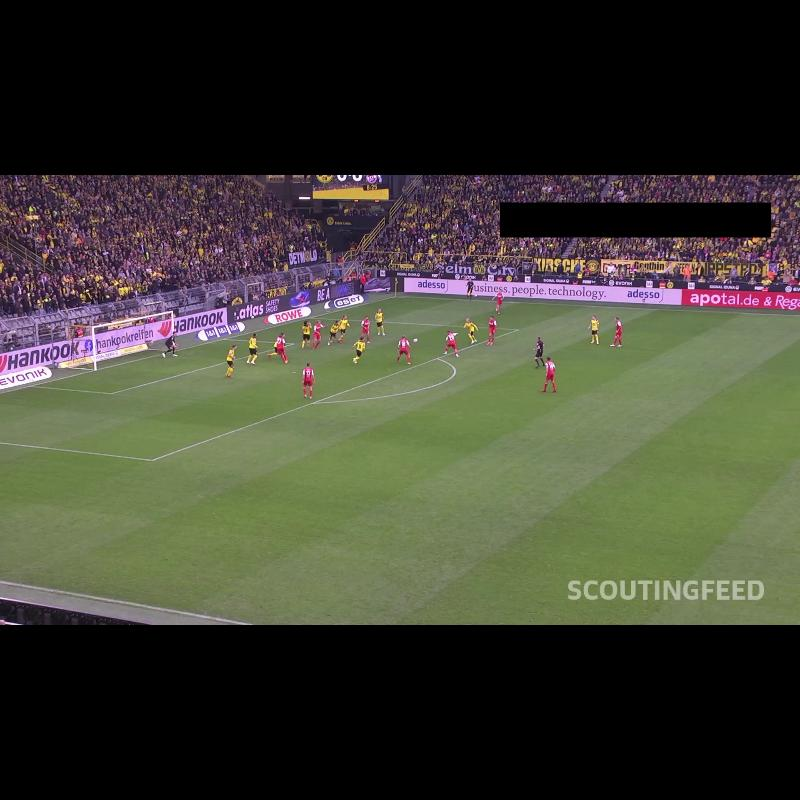cross_recipient_zone: (0, 318, 519, 460)
crossing_player_zone: (0, 442, 325, 598), (312, 295, 694, 337)
pitch: (0, 295, 800, 625)
